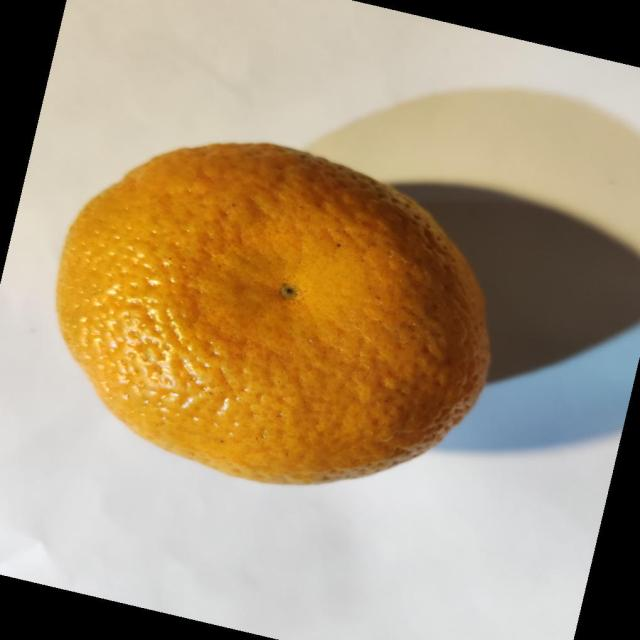fresh orange: (55, 140, 492, 486)
